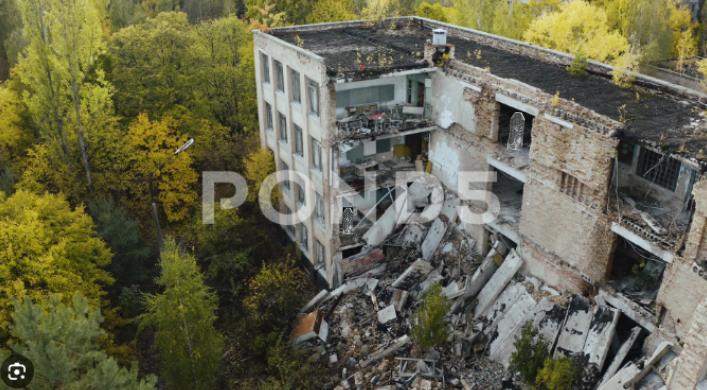HVT1: (509, 112, 524, 148), (343, 208, 352, 234)
